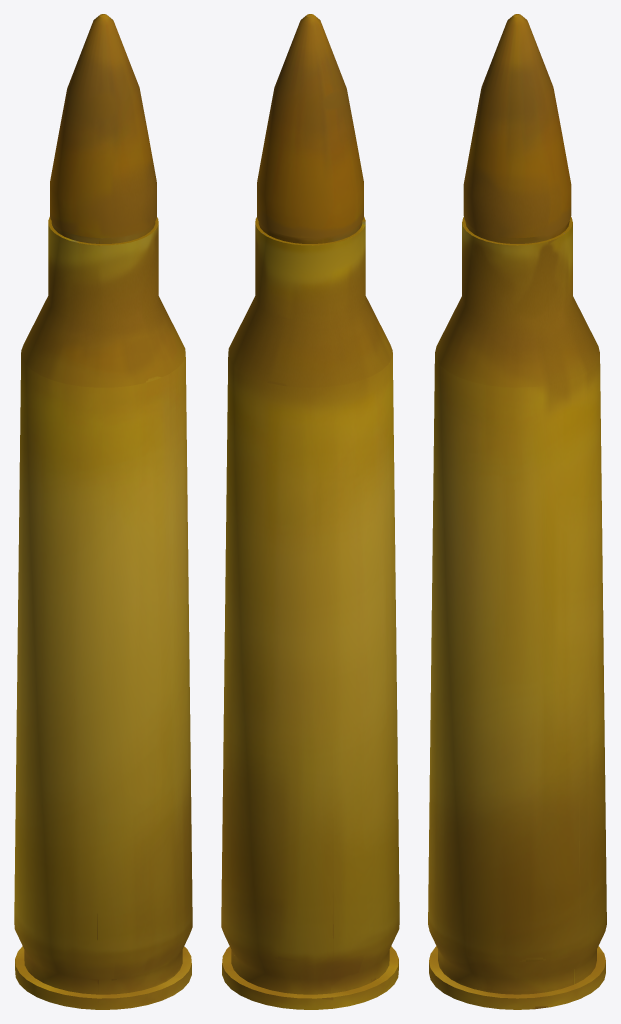
Rendered from BulletNew.fbx.
3 views of the same model, side by side, from view 1: azimuth 30°, elevation 25°; view 2: azimuth 150°, elevation 25°; view 3: azimuth 270°, elevation 25° (orthographic).
Visible parts, largest first — view 1: Cylinder; view 2: Cylinder; view 3: Cylinder.
Part boxes in pixels (x1,y1,x2,y2): Cylinder: (14, 14, 192, 1009); Cylinder: (221, 14, 399, 1009); Cylinder: (428, 14, 606, 1009).
Size of the model in its own units: 44 by 260 by 43.96.
